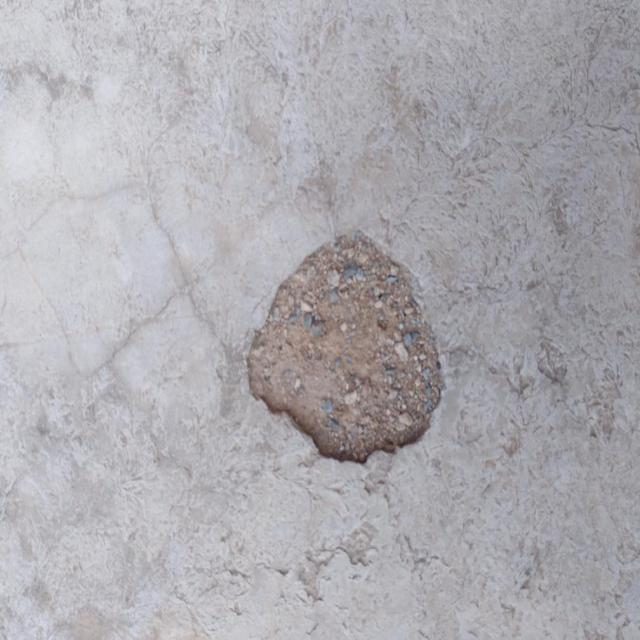concrete spalling: (246, 226, 444, 467)
diagonal crack: (114, 84, 238, 320)
